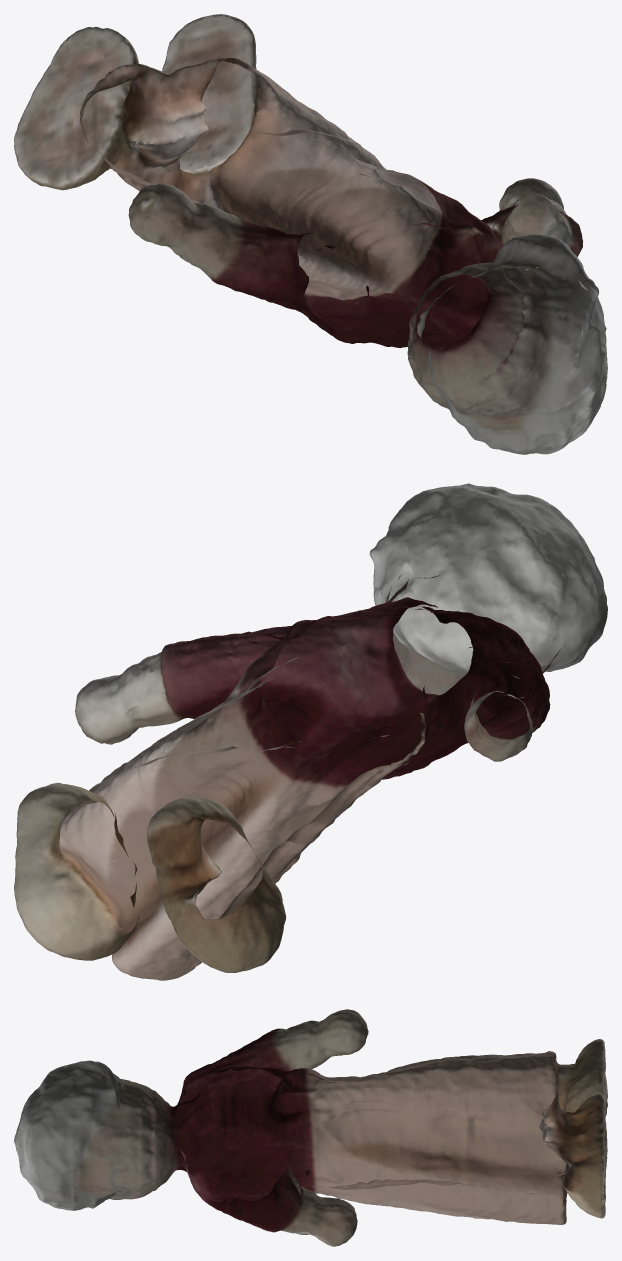
Rendered from grandmother.glb.
The picture shows the model from 3 angles, top to bottom: view 1: azimuth 30°, elevation 25°; view 2: azimuth 150°, elevation 25°; view 3: azimuth 270°, elevation 25°; orthographic projection. The views are drawn at different scales.
Bounding box in the file's own units: 0.6039 × 0.2993 × 1.
